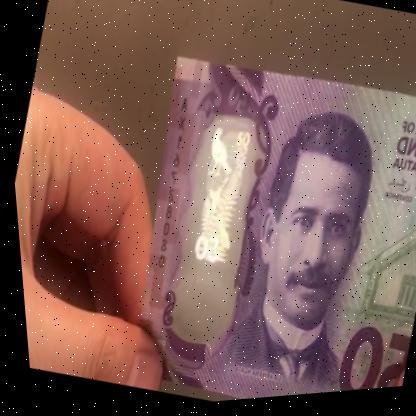50F: (153, 117, 272, 335)
